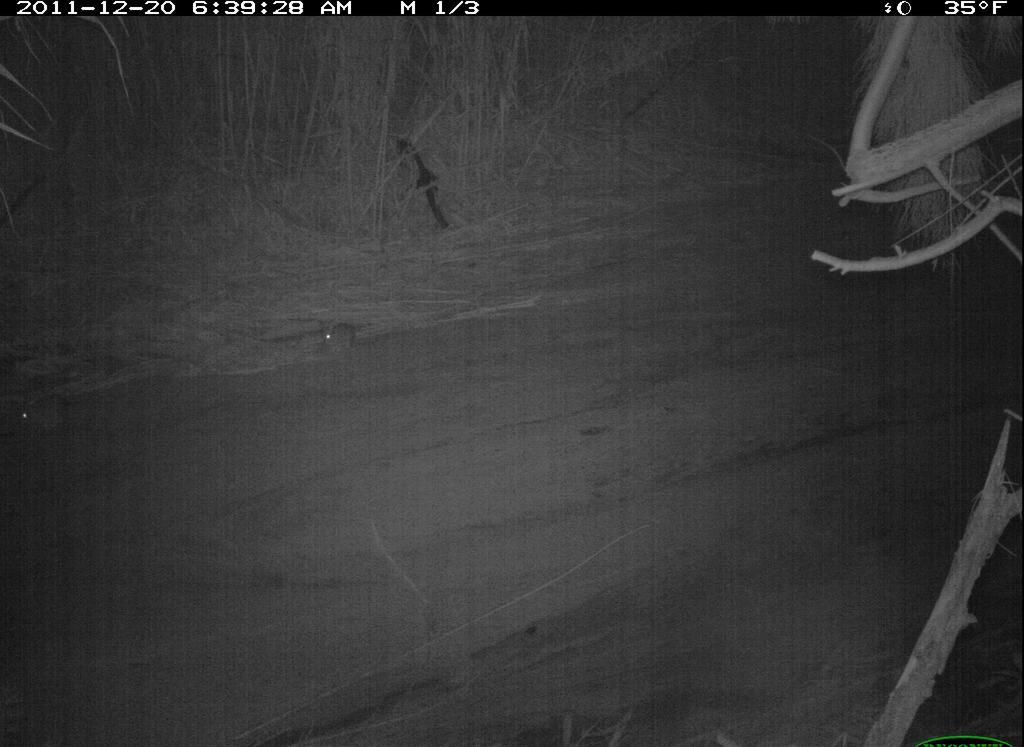rabbit: (11, 377, 99, 442), (309, 310, 361, 359)
